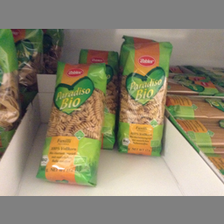pasta: (35, 61, 108, 187), (116, 35, 173, 157)
